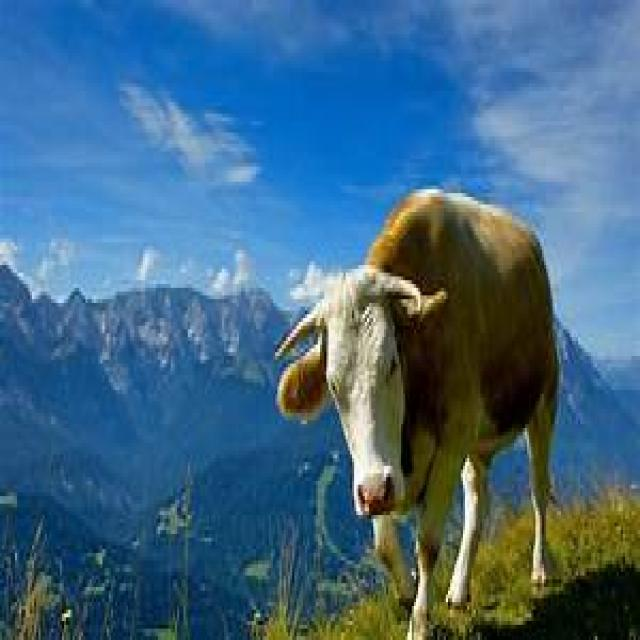cow: (277, 189, 563, 640)
